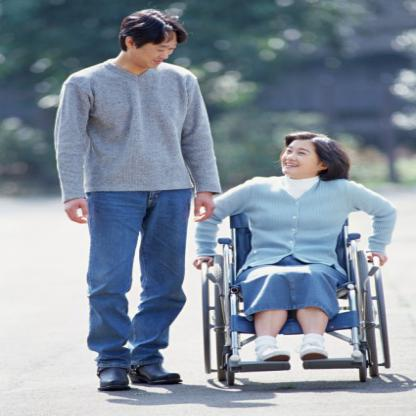wheelchair: (190, 126, 392, 392)
